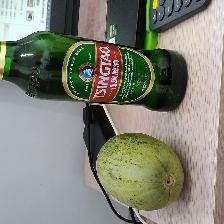gua: (86, 130, 181, 209)
